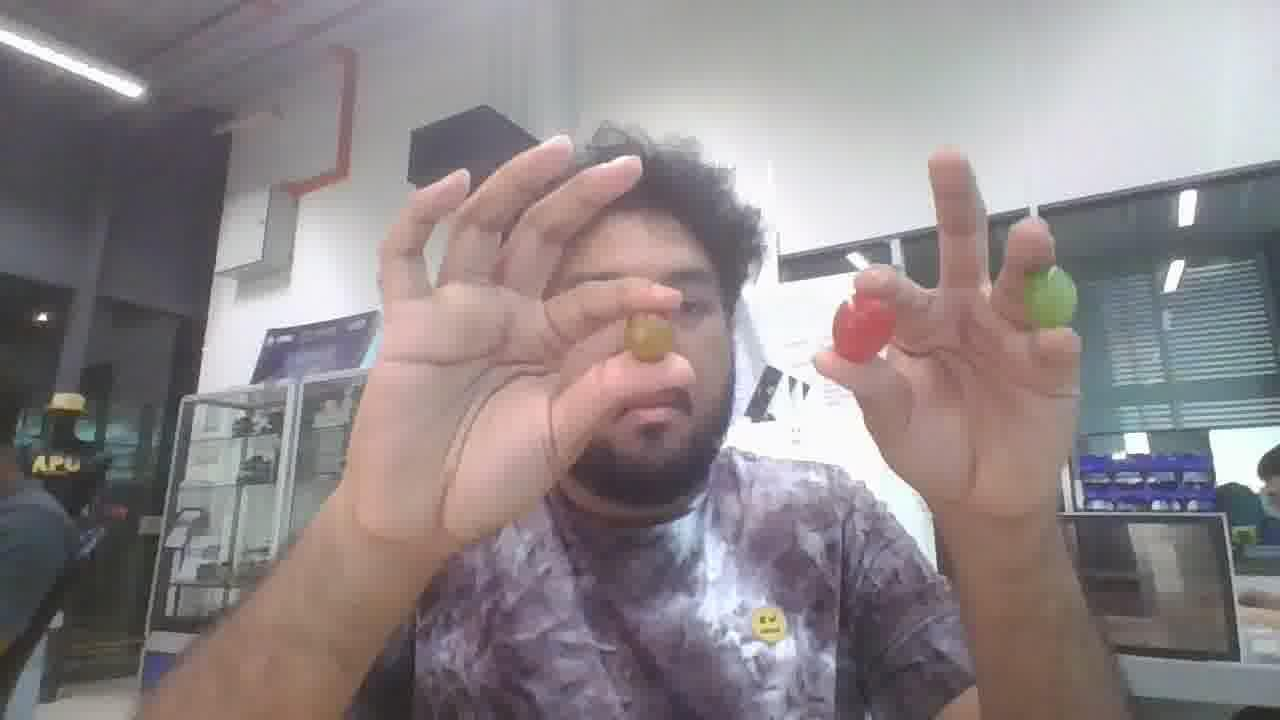green_cherry_tomato: (1023, 265, 1075, 328)
red_cherry_tomato: (832, 295, 895, 363)
yellow_cherry_tomato: (624, 313, 673, 362)
